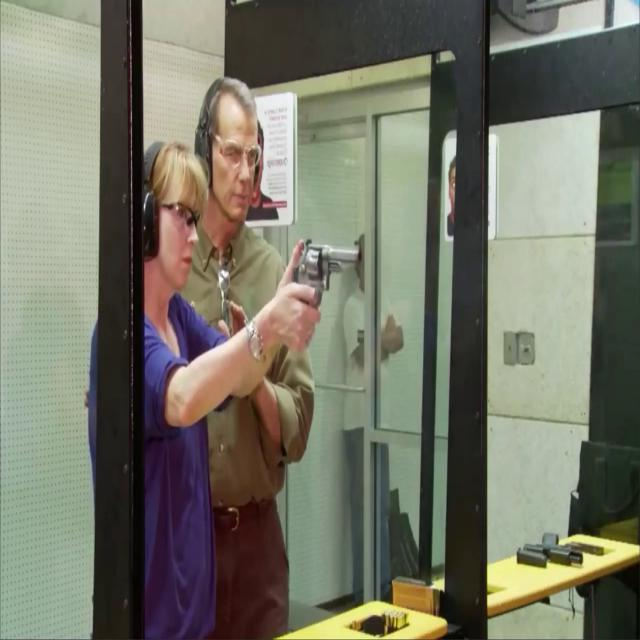Gun: (288, 237, 363, 314)
